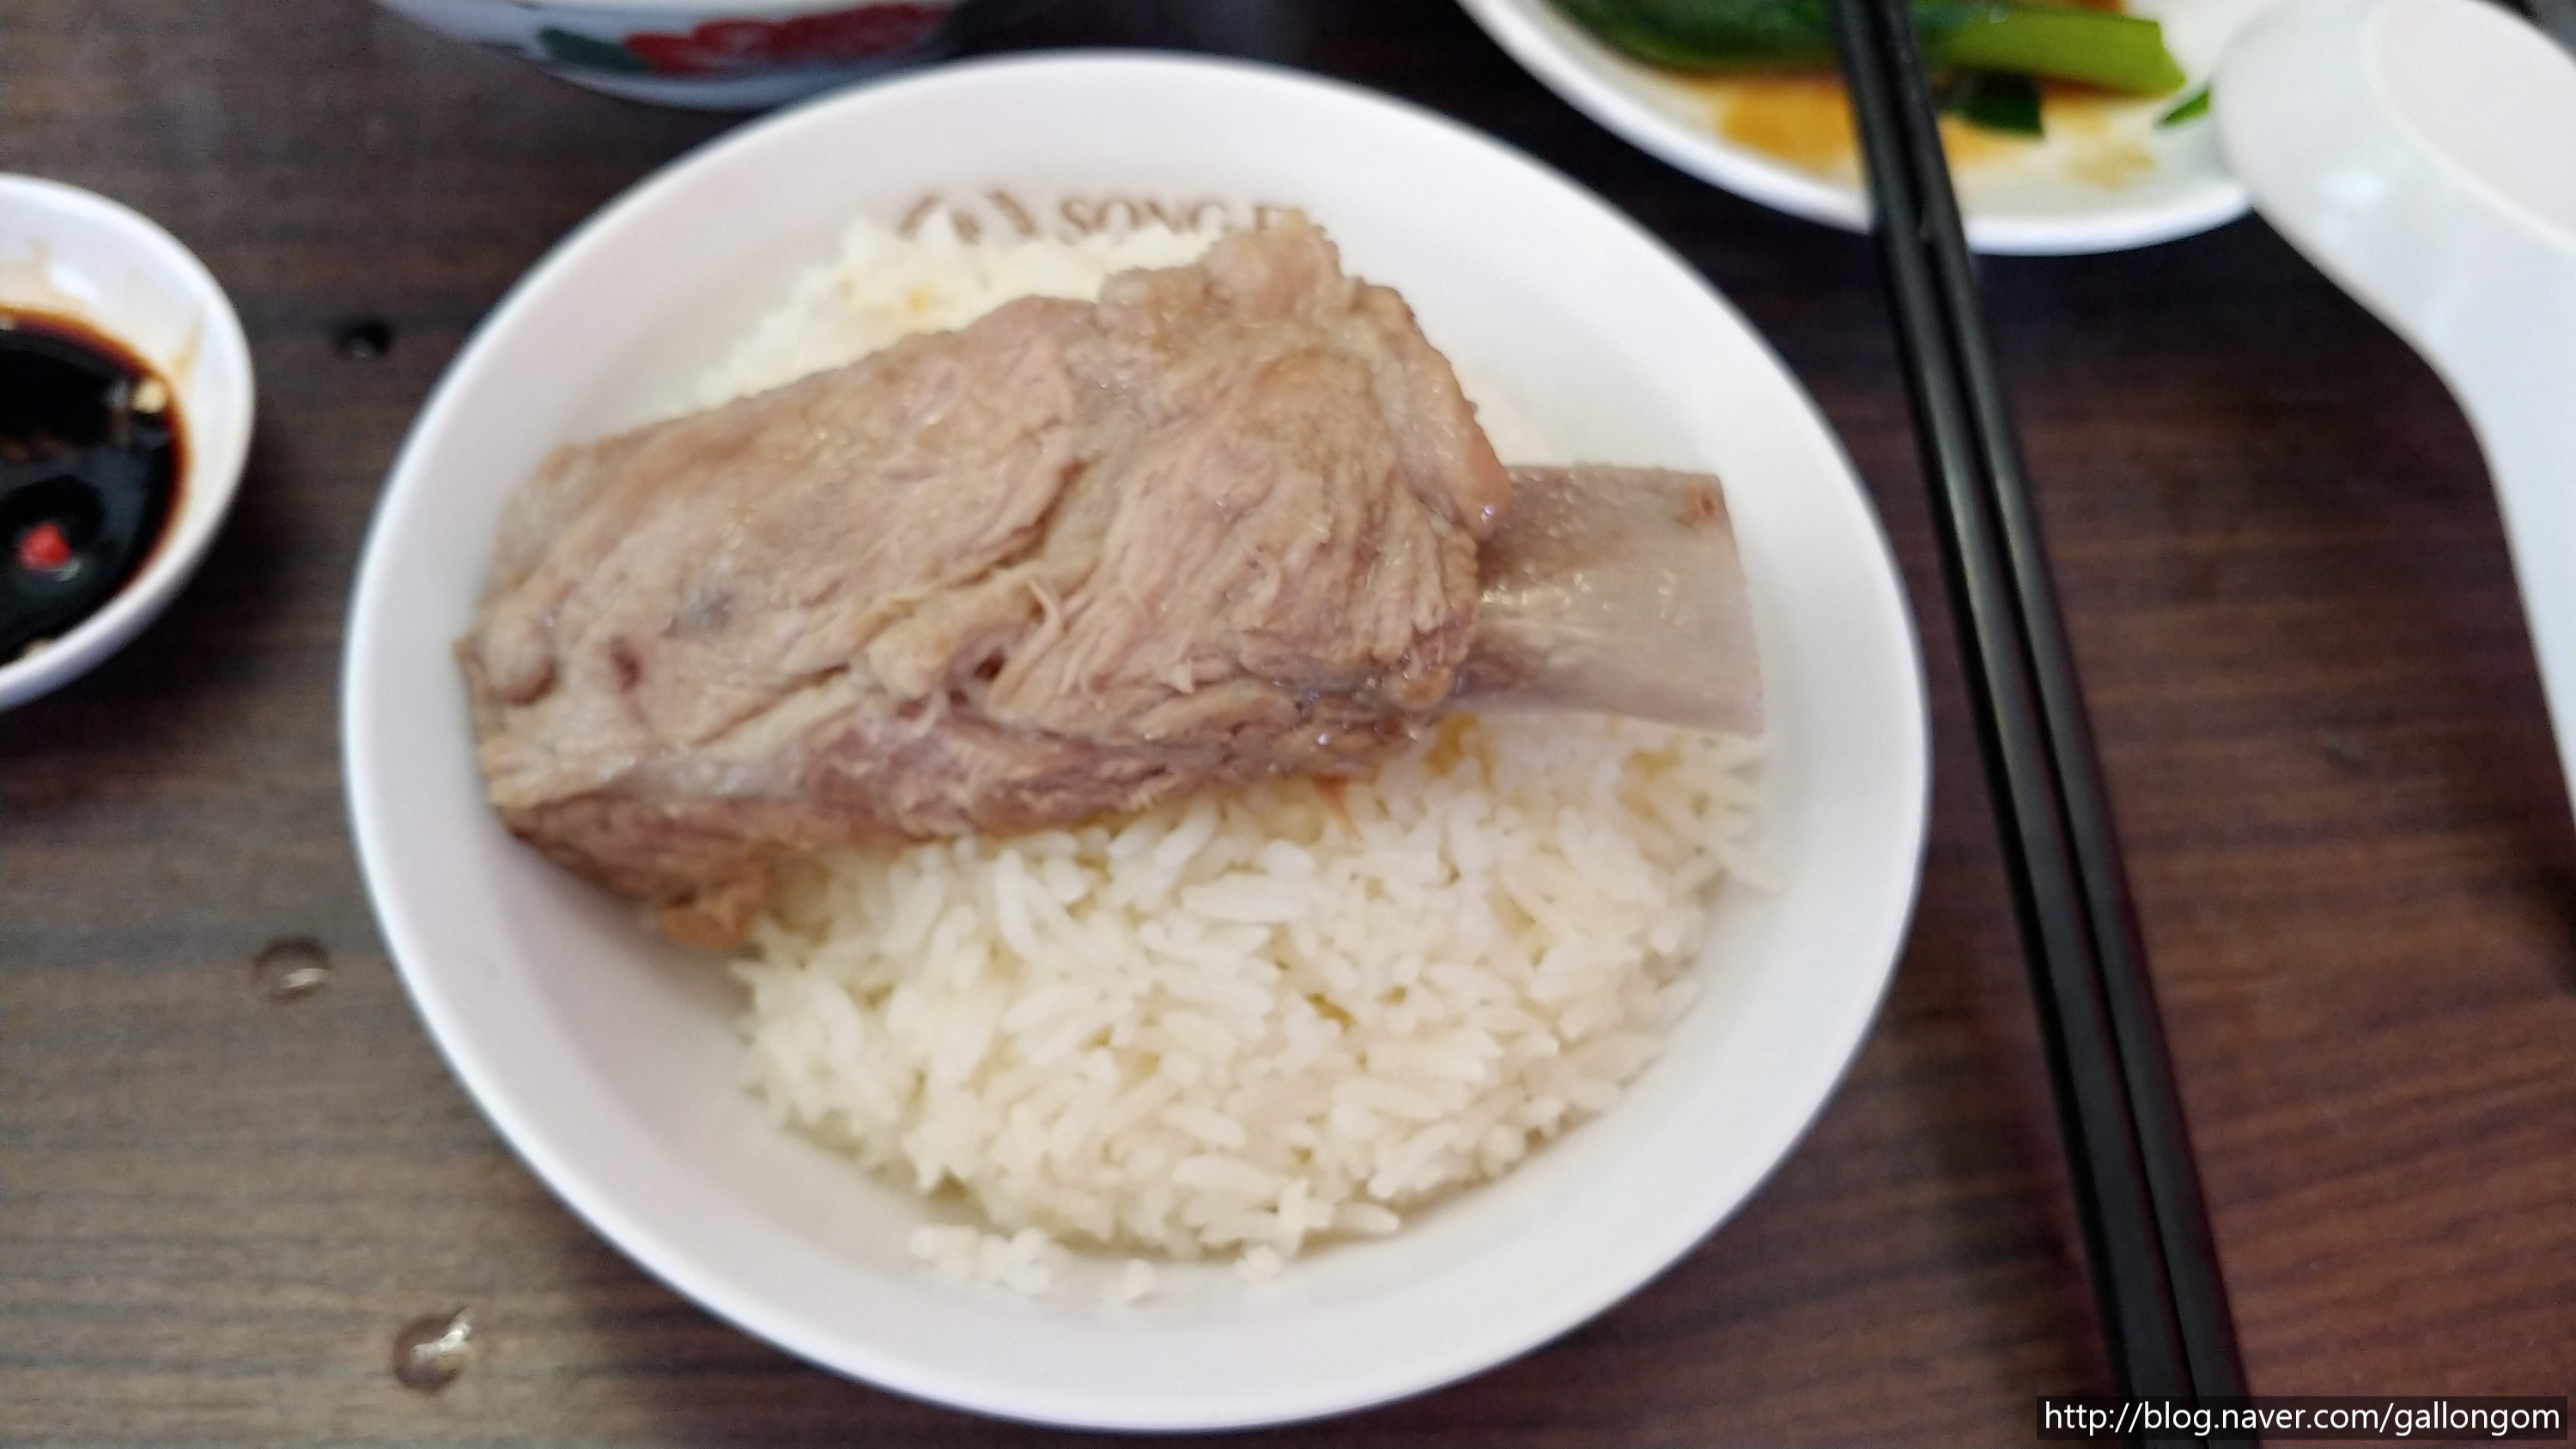plain rice: (936, 830, 1598, 1180)
